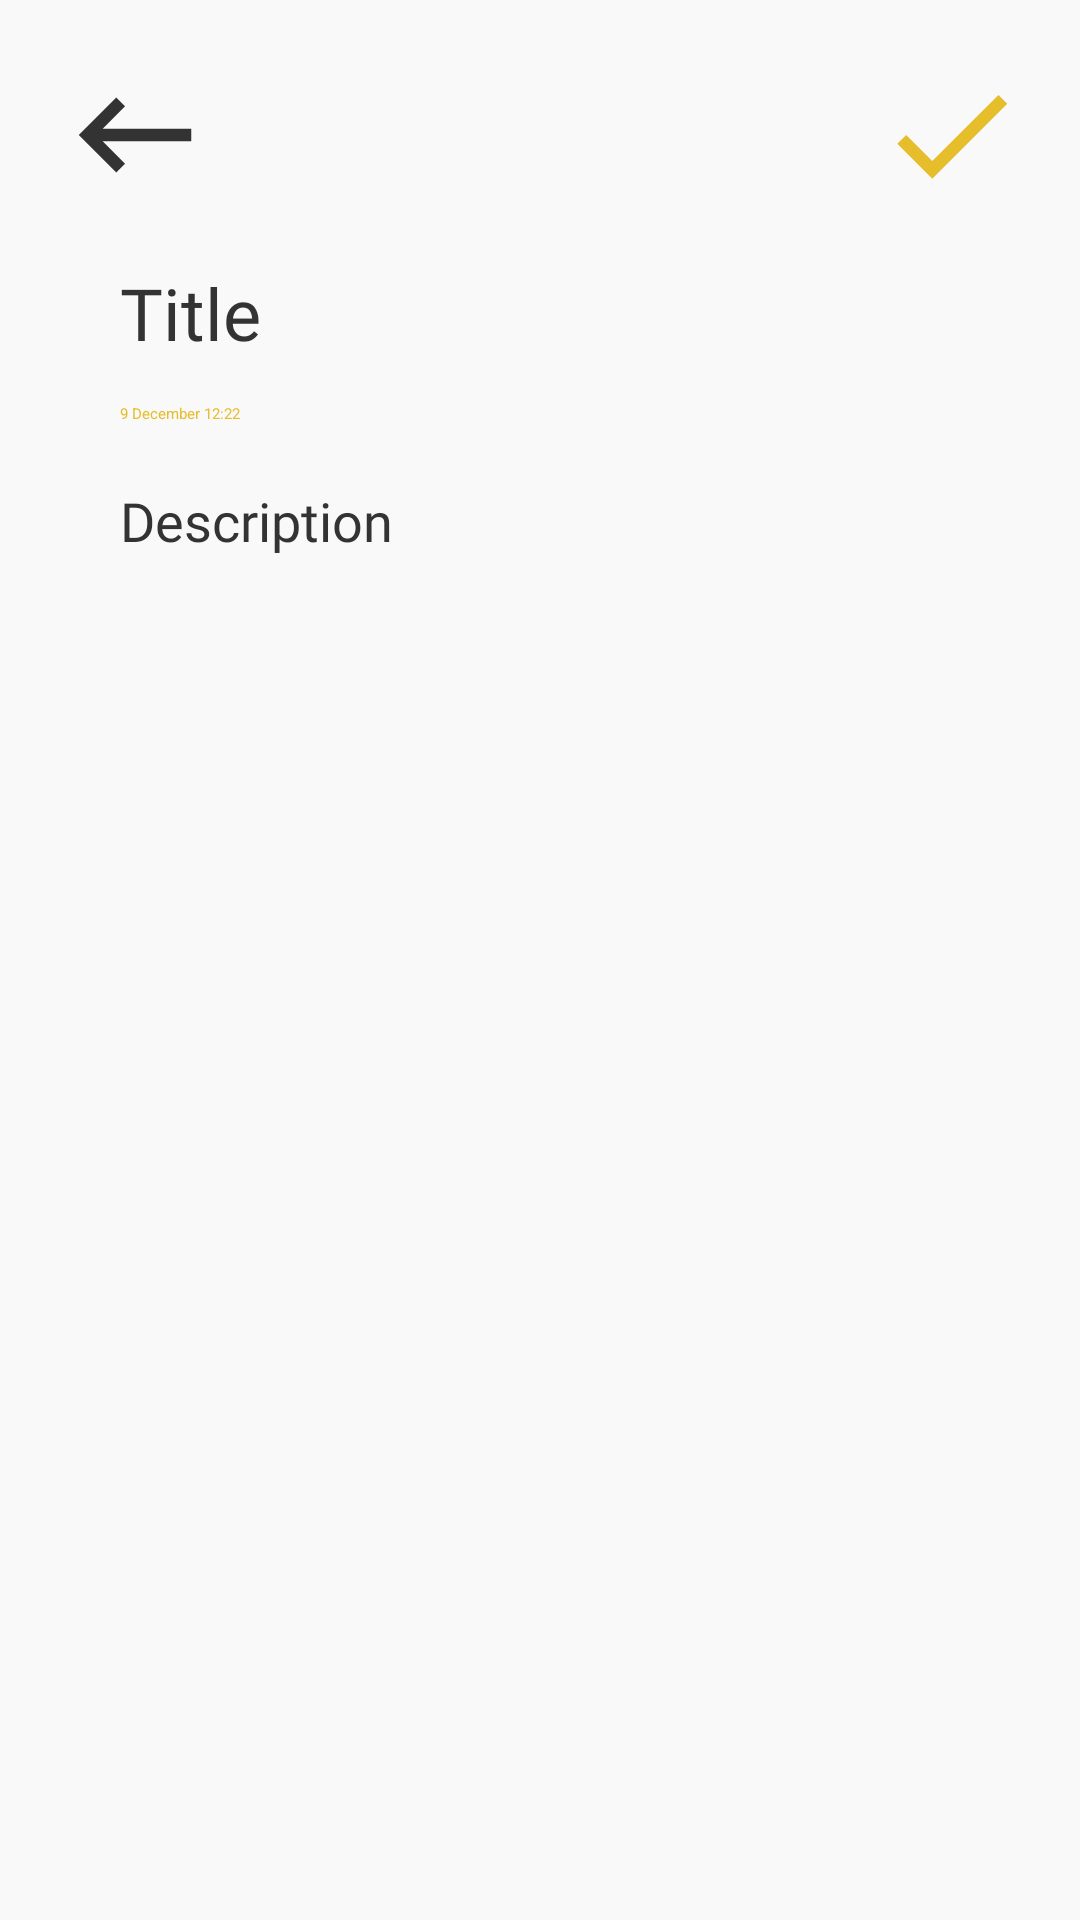

Screen size 1080×1920. Icon name, then its center in pixels as point (x, y):
check: point (952, 137)
keyboard backspace: point (135, 135)
